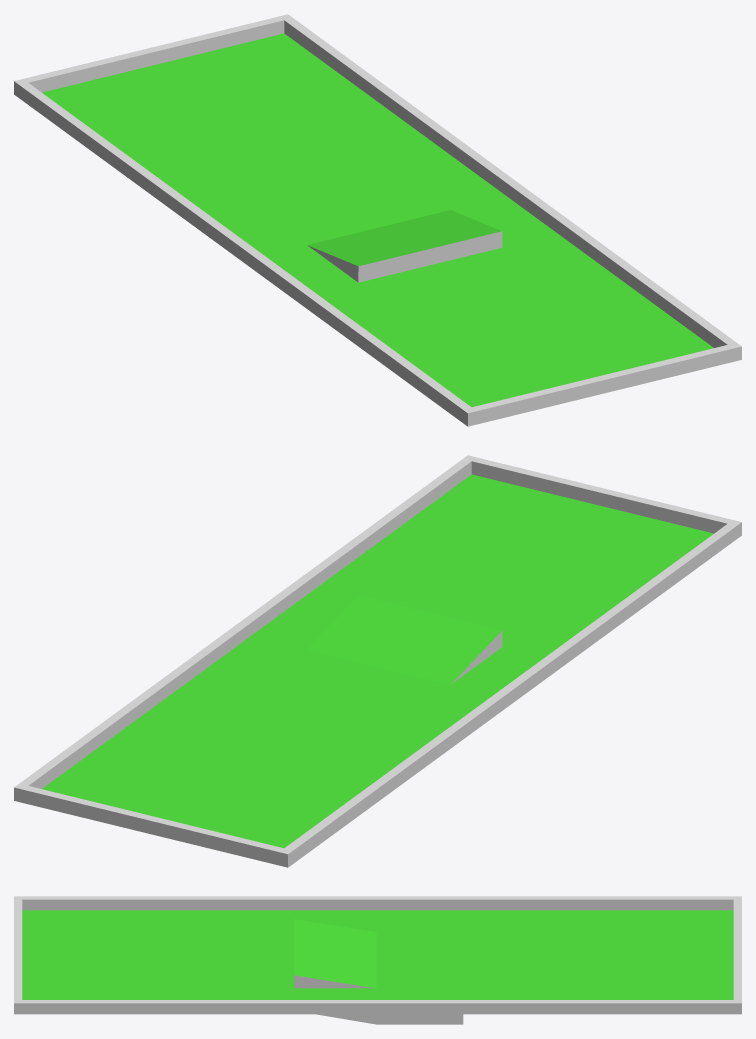
The model's file is hole10.fbx.
The picture shows the model from 3 angles, top to bottom: view 1: azimuth 30°, elevation 25°; view 2: azimuth 150°, elevation 25°; view 3: azimuth 270°, elevation 25°; orthographic projection. The views are drawn at different scales.
Visible parts, largest first — view 1: groundplane, border, tilting_ramp; view 2: groundplane, border, tilting_ramp; view 3: groundplane, border, tilting_ramp.
Part boxes in pixels (box(x1,y1,x2,y2)): groundplane: box(42, 33, 713, 407); border: box(14, 14, 741, 426); tilting_ramp: box(307, 210, 502, 282); groundplane: box(42, 474, 713, 848); border: box(14, 455, 741, 867); tilting_ramp: box(307, 595, 502, 684); groundplane: box(22, 910, 733, 999); border: box(14, 896, 741, 1014); tilting_ramp: box(294, 919, 463, 1024).
Bounding box in the file's own units: 107 × 23.05 × 307.
